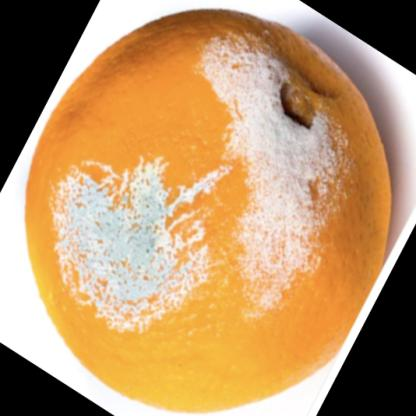rotten: (26, 7, 395, 416)
